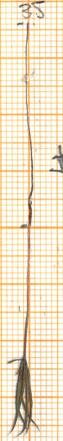flower: (1, 353, 51, 438)
root: (21, 23, 38, 226)
stem: (15, 225, 43, 358)
